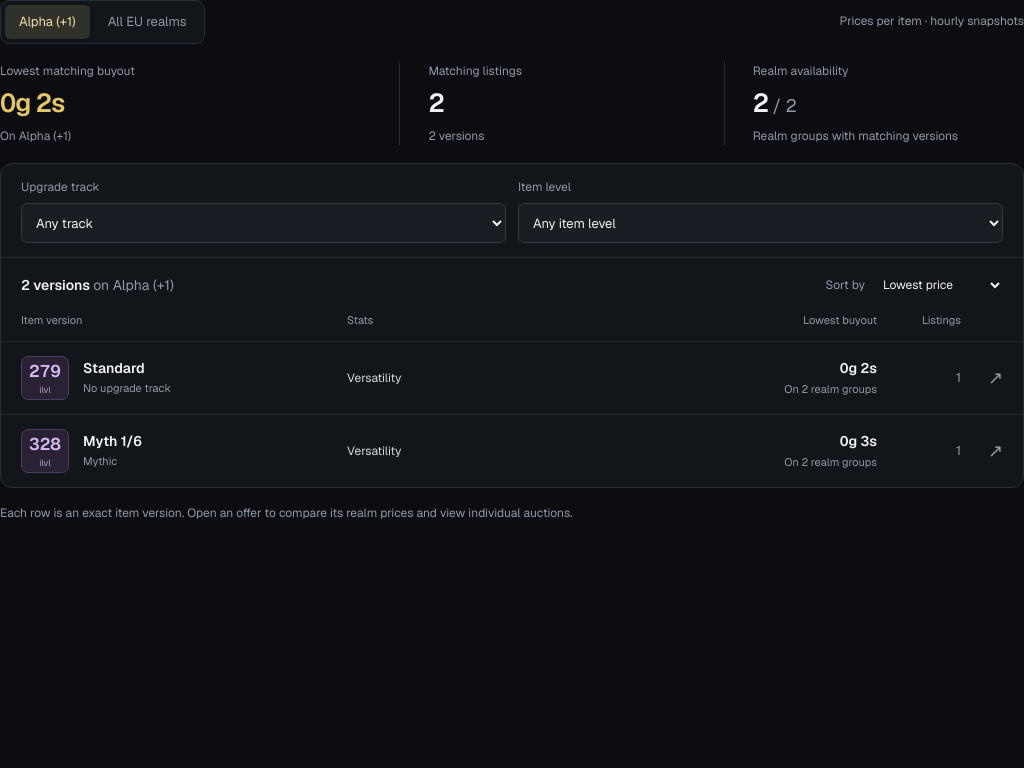
Scenario: sorts by cheapest buyout by default and switches scope without changing the saved realm
The width and height of the screenshot is (1024, 768).
Check: the button with aria-label "View listings for ilvl 279" is shown, box left=1, top=340, right=1023, bottom=414
Select "Highest item level" in the dropdown labelled "Sort by" at (938, 285), box left=873, top=270, right=1003, bottom=300
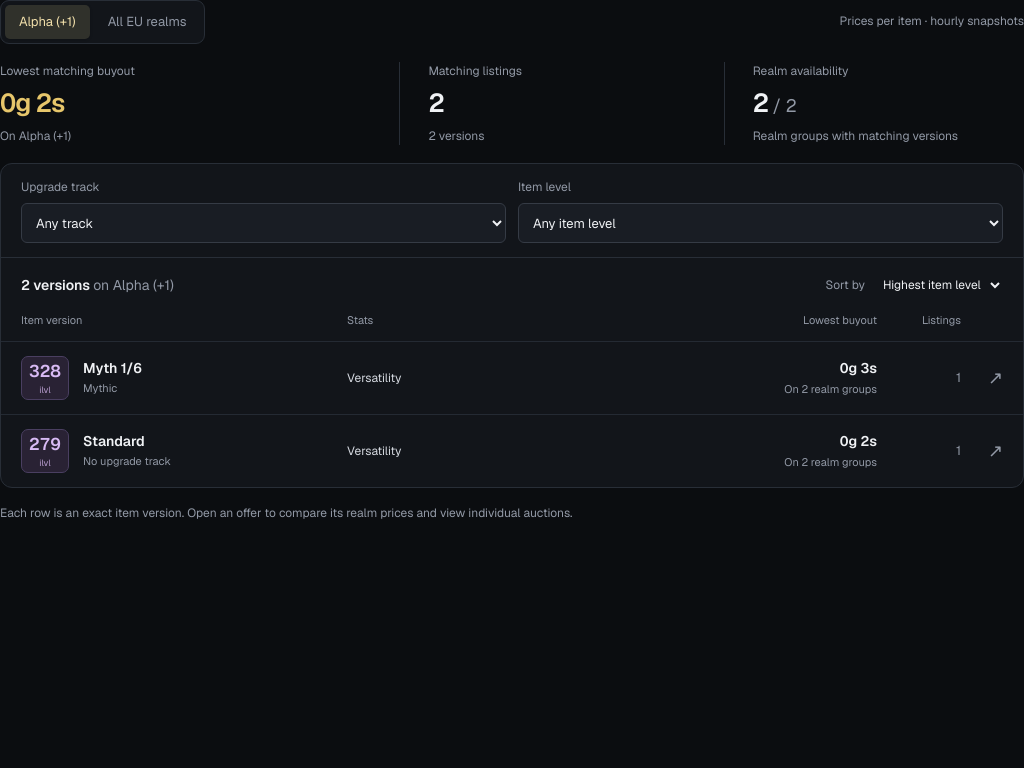
Click the button "All EU realms" at (147, 22), box left=94, top=5, right=200, bottom=39
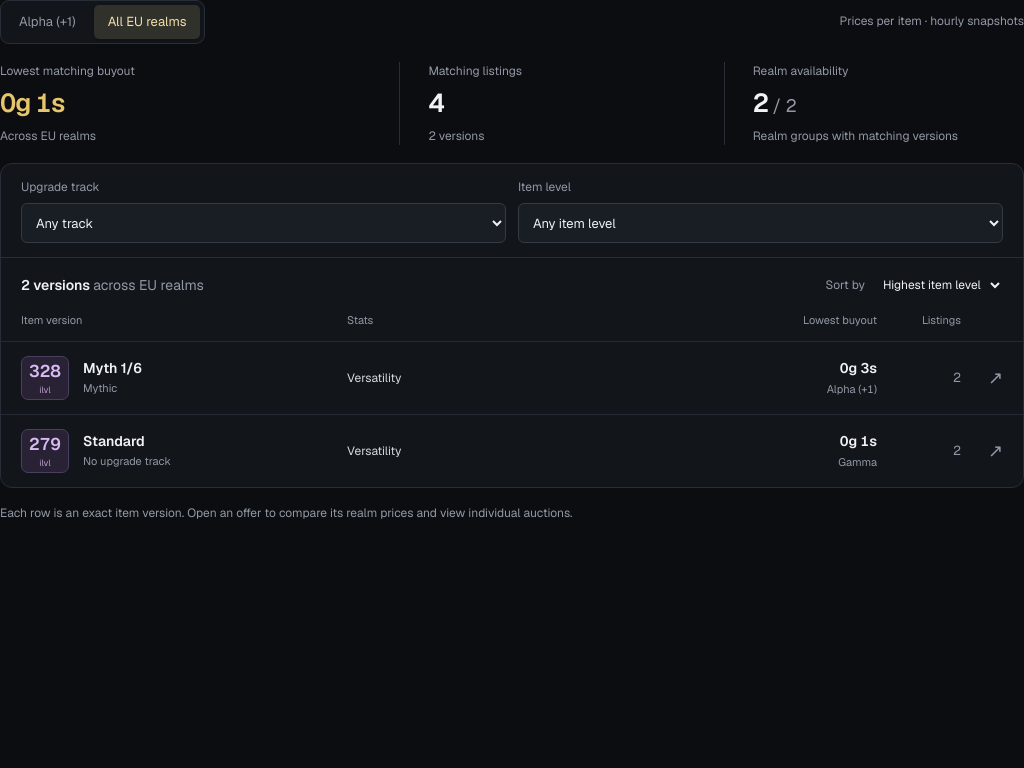
Click the button with aria-label "View listings for ilvl 279" at (45, 450), box left=1, top=414, right=1023, bottom=486
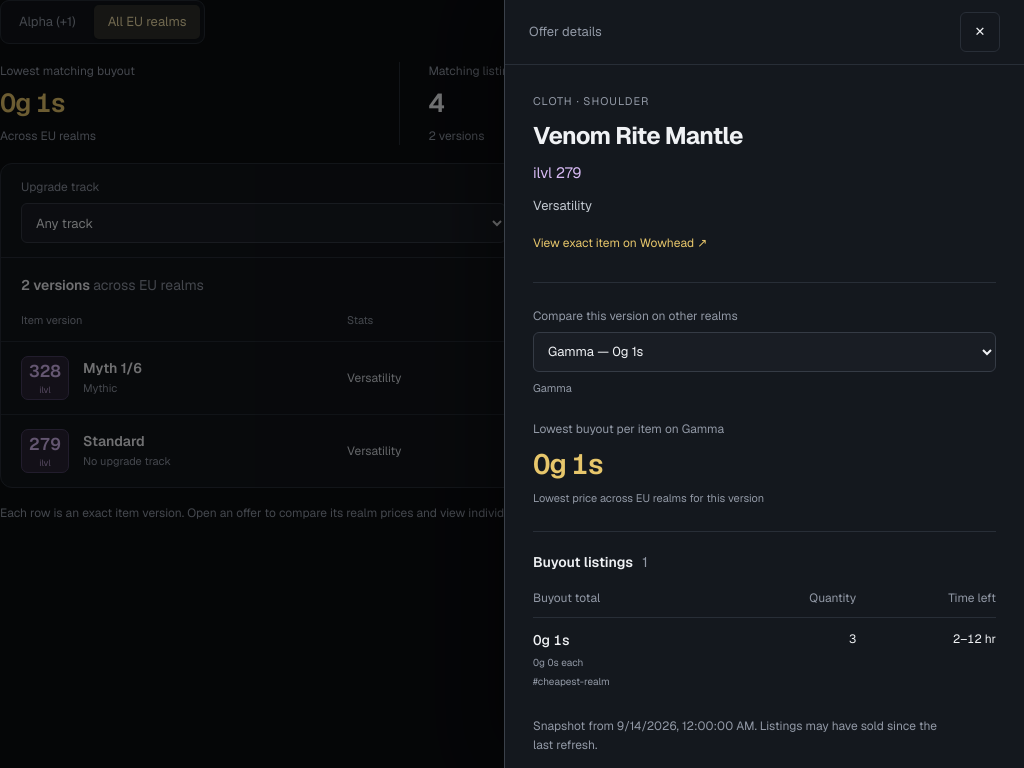
Check: the link "#cheapest-realm" is shown, box left=533, top=674, right=610, bottom=688
